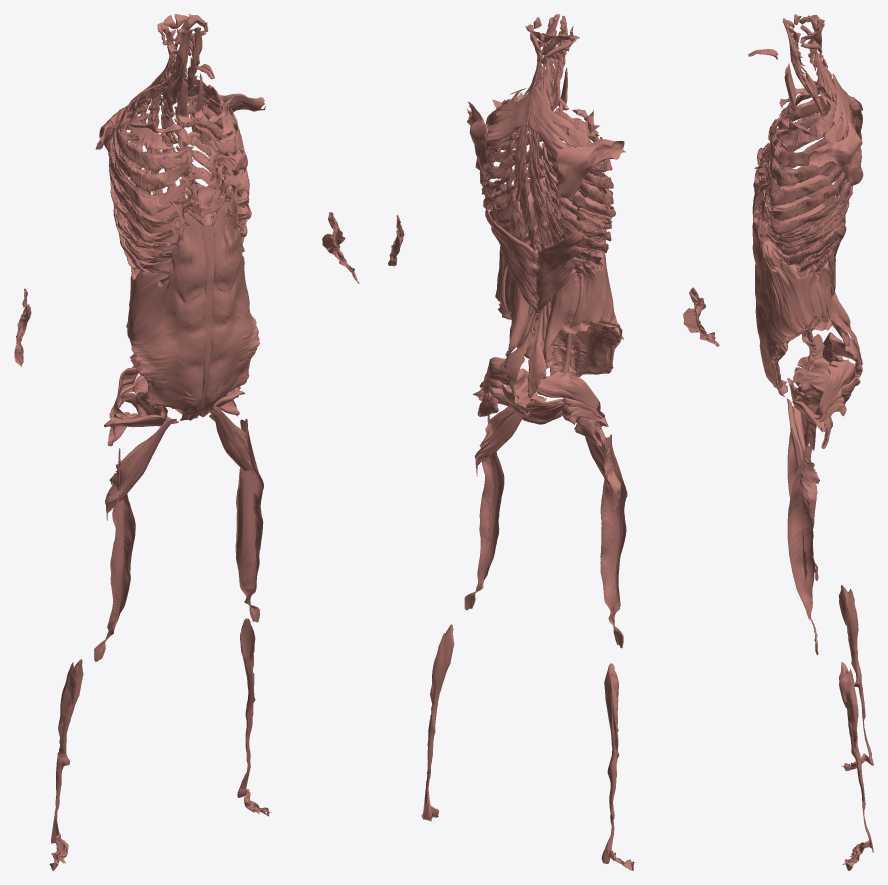
Rendered from deep.glb.
3 views of the same model, side by side, from view 1: azimuth 30°, elevation 25°; view 2: azimuth 150°, elevation 25°; view 3: azimuth 270°, elevation 25° (orthographic). The views are drawn at different scales.
Visible parts, largest first — view 1: internal_oblique_r, internal_oblique_l, External_intercostal_muscles_r, vastus_intermedius_l, Internal_intercostal_muscles_r, vastus_intermedius_r, External_intercostal_muscles_l, Tibialis_posterior_muscle_r, Innermost_intercostal_muscles_l, Tibialis_posterior_muscle_l, Linea_alba, adductor_brevis_r (+6 smaller); view 2: External_intercostal_muscles_r, Transversus_abdominis_muscle_r, vastus_intermedius_r, vastus_intermedius_l, internal_oblique_r, Serratus_posterior_inferior_muscle_r, Subscapularis_muscle_r, Serratus_posterior_inferior_muscle_l, Tibialis_posterior_muscle_r, Tibialis_posterior_muscle_l, Serratus_posterior_superior_muscle_r, Rotatores_r (+17 smaller); view 3: External_intercostal_muscles_l, internal_oblique_l, vastus_intermedius_l, Internal_intercostal_muscles_l, Tibialis_posterior_muscle_l, Subscapularis_muscle_l, Tibialis_posterior_muscle_r, Innermost_intercostal_muscles_l, Diaphragm, Transversus_abdominis_muscle_l, Innermost_intercostal_muscles_r, adductor_brevis_l (+18 smaller).
Part boxes in pixels (x1,y1,x2,y2): internal_oblique_r: (126, 197, 206, 415); internal_oblique_l: (200, 179, 260, 413); External_intercostal_muscles_r: (108, 89, 189, 274); vastus_intermedius_l: (235, 418, 263, 622); Internal_intercostal_muscles_r: (112, 123, 201, 271); vastus_intermedius_r: (94, 448, 135, 661); External_intercostal_muscles_l: (176, 79, 251, 245); Tibialis_posterior_muscle_r: (49, 659, 83, 870); Innermost_intercostal_muscles_l: (190, 98, 247, 224); Tibialis_posterior_muscle_l: (237, 618, 270, 816); Linea_alba: (189, 206, 214, 420); adductor_brevis_r: (105, 418, 172, 520); External_intercostal_muscles_r: (544, 108, 616, 271); Transversus_abdominis_muscle_r: (560, 172, 620, 376); vastus_intermedius_r: (600, 434, 627, 648); vastus_intermedius_l: (464, 415, 504, 610); internal_oblique_r: (569, 171, 623, 377); Serratus_posterior_inferior_muscle_r: (534, 230, 584, 312); Subscapularis_muscle_r: (556, 139, 625, 198); Serratus_posterior_inferior_muscle_l: (485, 208, 538, 313); Tibialis_posterior_muscle_r: (601, 663, 634, 870); Tibialis_posterior_muscle_l: (421, 624, 454, 821); Serratus_posterior_superior_muscle_r: (528, 87, 578, 158); Rotatores_r: (527, 56, 554, 398); External_intercostal_muscles_l: (762, 101, 852, 272); internal_oblique_l: (752, 184, 828, 389); vastus_intermedius_l: (787, 445, 818, 654); Internal_intercostal_muscles_l: (754, 131, 850, 268); Tibialis_posterior_muscle_l: (839, 662, 873, 870); Subscapularis_muscle_l: (807, 135, 863, 186); Tibialis_posterior_muscle_r: (838, 585, 873, 770); Innermost_intercostal_muscles_l: (764, 133, 848, 260); Diaphragm: (756, 168, 833, 271); Transversus_abdominis_muscle_l: (764, 200, 835, 396); Innermost_intercostal_muscles_r: (764, 96, 841, 195); adductor_brevis_l: (787, 398, 817, 518).
Size of the model in its own units: 0.6449 by 1.52 by 0.215.
